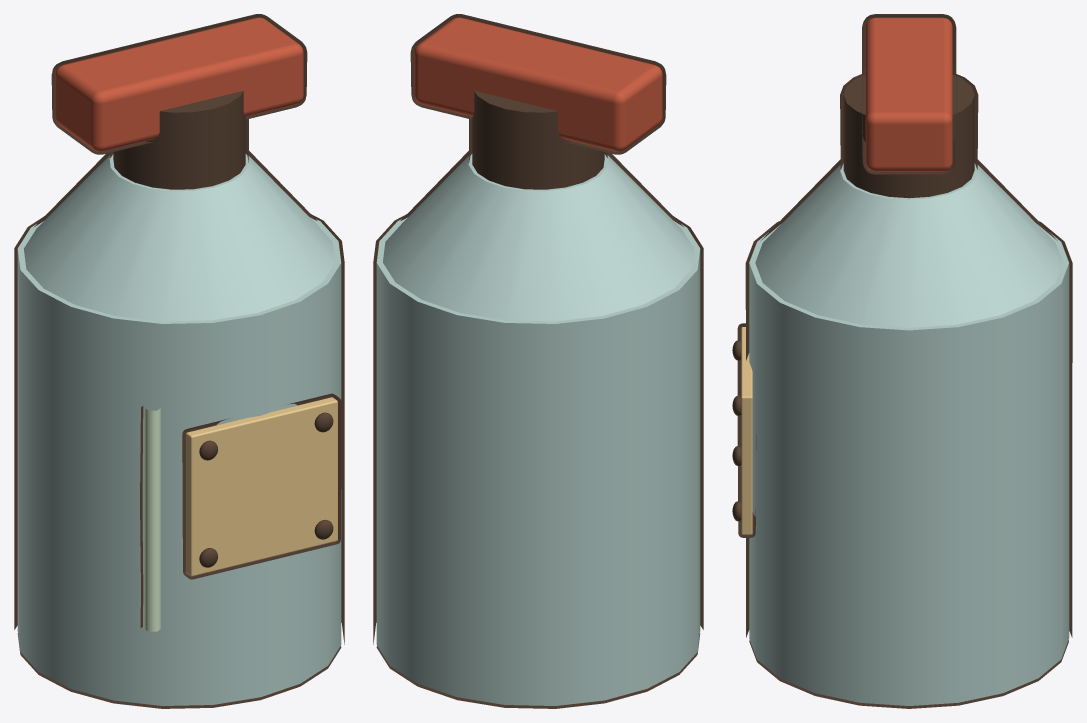
Rendered from prop_20026.glb.
3 renders of one model, left to right at view 1: azimuth 30°, elevation 25°; view 2: azimuth 150°, elevation 25°; view 3: azimuth 270°, elevation 25°, orthographic.
Parts seen in each view (by area): view 1: prop_20026; view 2: prop_20026; view 3: prop_20026.
Boxes of the visible parts, box(x1,y1,x2,y2) form: prop_20026: box(14, 14, 344, 708); prop_20026: box(373, 14, 703, 708); prop_20026: box(732, 14, 1072, 708).
Size of the model in its own units: 0.4241 by 0.83 by 0.4414.
